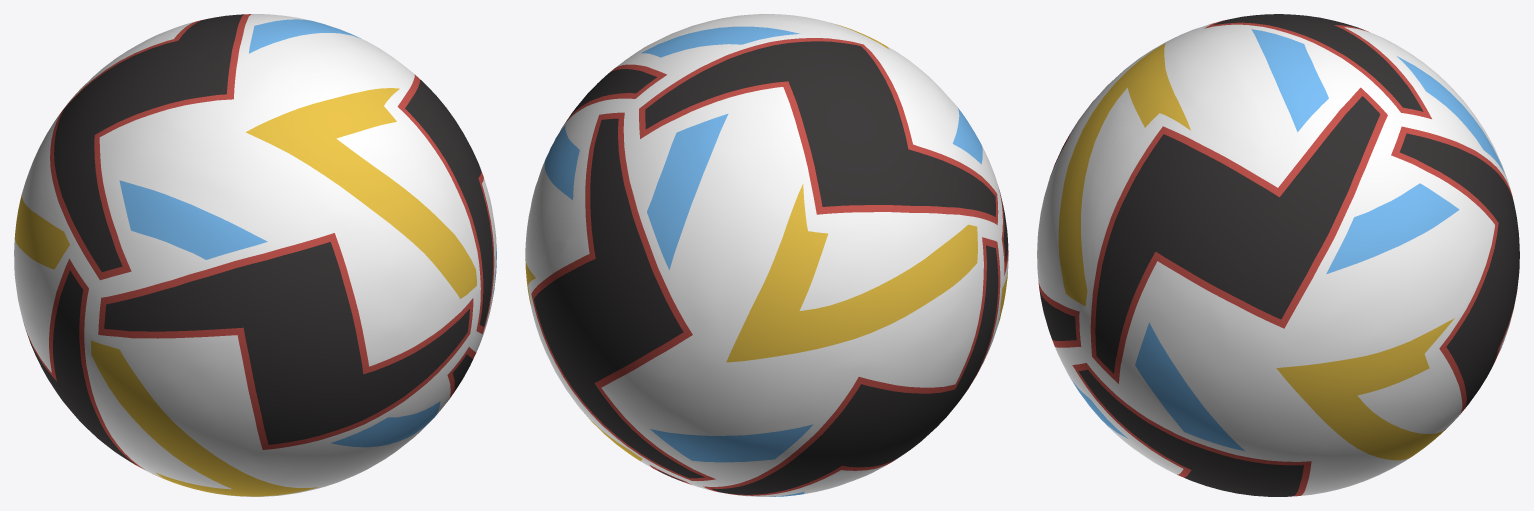
File: Bal_LaLiga_ID.fbx
3 views of the same model, side by side, from view 1: azimuth 30°, elevation 25°; view 2: azimuth 150°, elevation 25°; view 3: azimuth 270°, elevation 25° (orthographic).
Visible parts, largest first — view 1: LaLiga_Ball_ID; view 2: LaLiga_Ball_ID; view 3: LaLiga_Ball_ID.
Part boxes in pixels (x1=…): LaLiga_Ball_ID: x1=14, y1=14, x2=496, y2=496; LaLiga_Ball_ID: x1=525, y1=14, x2=1008, y2=496; LaLiga_Ball_ID: x1=1037, y1=14, x2=1519, y2=496.
Bounding box in the file's own units: 29.98 × 29.99 × 29.98.
